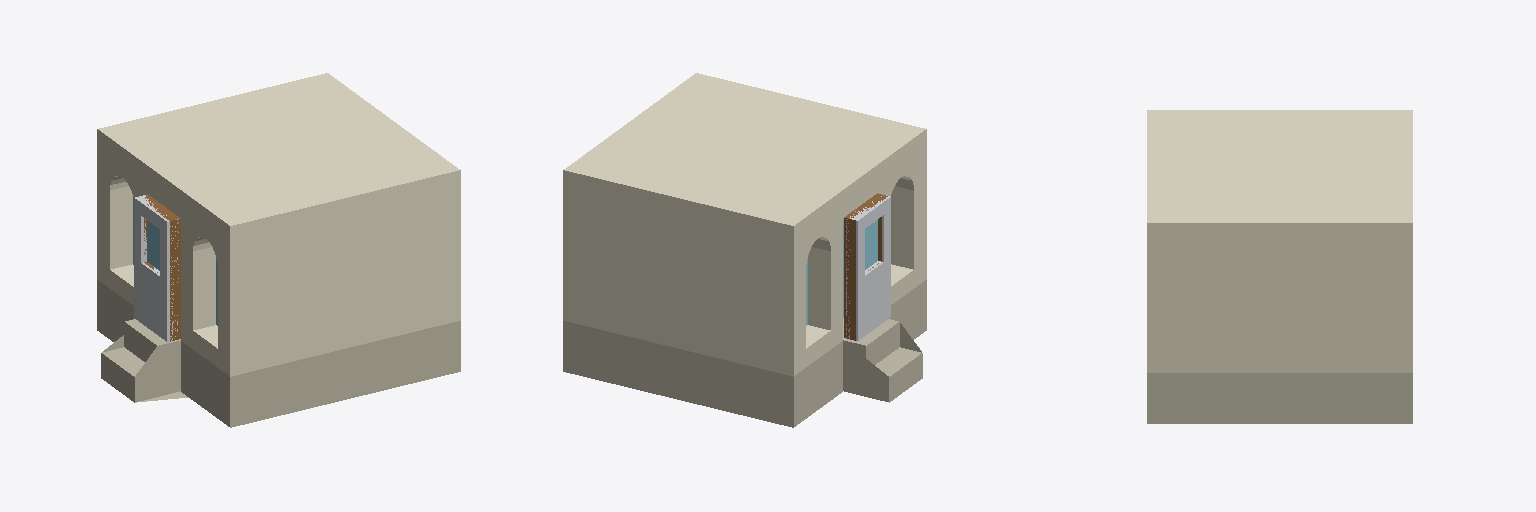
Rendered from modularBuildings_025b.obj.
3 views of the same model, side by side, from view 1: azimuth 30°, elevation 25°; view 2: azimuth 150°, elevation 25°; view 3: azimuth 270°, elevation 25° (orthographic).
Visible parts, largest first — view 1: Mesh1_Group1_Model.001; view 2: Mesh1_Group1_Model.001; view 3: Mesh1_Group1_Model.001.
Boxes of the visible parts, <box> form: Mesh1_Group1_Model.001: <box>97,73,460,427</box>; Mesh1_Group1_Model.001: <box>563,73,926,427</box>; Mesh1_Group1_Model.001: <box>1147,110,1412,423</box>.
Size of the model in its own units: 1.2 by 0.8375 by 1.